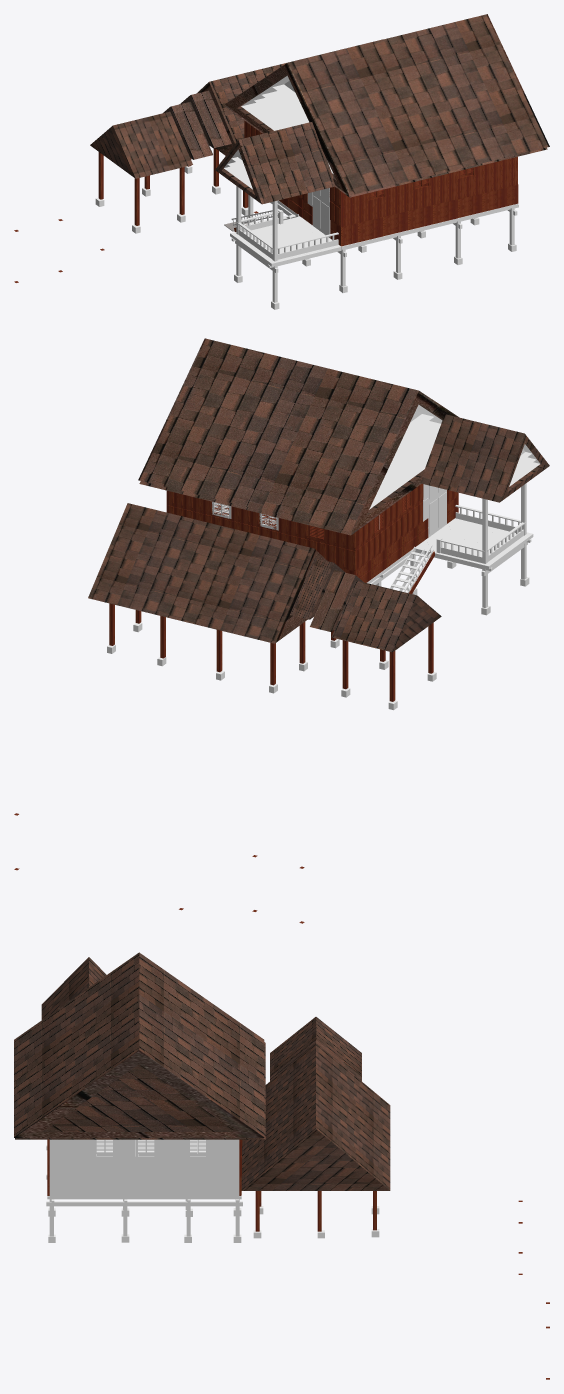
The model's file is rumah_tradisional_soppeng 001.glb.
3 views of the same model, one above another, from view 1: azimuth 30°, elevation 25°; view 2: azimuth 150°, elevation 25°; view 3: azimuth 270°, elevation 25° (orthographic). The views are drawn at different scales.
Visible parts, largest first — view 1: Kubus.518, Kubus.496, Kubus.510, Silinder.021, Kubus.021, Kubus.506, Kubus.509, Kubus.508, Kubus.491, Kubus.200, Kubus.201, Kubus.067 (+1 smaller); view 2: Kubus.518, Kubus.506, Kubus.496, Kubus.510, Silinder.021, Kubus.021, Kubus.509, Kubus.508, Kubus.491, Kubus.201, Kubus.200; view 3: Kubus.518, Kubus.506, Kubus.491, Kubus.510, Kubus.496, Kubus.023.
Part boxes in pixels (x1=…): Kubus.518: x1=225, y1=14, x2=549, y2=195; Kubus.496: x1=215, y1=122, x2=336, y2=204; Kubus.510: x1=90, y1=111, x2=192, y2=178; Silinder.021: x1=236, y1=186, x2=341, y2=302; Kubus.021: x1=230, y1=205, x2=518, y2=272; Kubus.506: x1=196, y1=39, x2=382, y2=155; Kubus.509: x1=163, y1=102, x2=212, y2=159; Kubus.508: x1=180, y1=90, x2=231, y2=148; Kubus.491: x1=225, y1=75, x2=547, y2=197; Kubus.200: x1=262, y1=77, x2=308, y2=124; Kubus.201: x1=241, y1=75, x2=333, y2=173; Kubus.067: x1=339, y1=203, x2=518, y2=249; Kubus.518: x1=138, y1=338, x2=459, y2=532; Kubus.506: x1=88, y1=503, x2=327, y2=643; Kubus.496: x1=420, y1=414, x2=549, y2=502; Kubus.510: x1=331, y1=580, x2=441, y2=652; Silinder.021: x1=436, y1=483, x2=533, y2=607; Kubus.021: x1=415, y1=518, x2=531, y2=576; Kubus.509: x1=310, y1=570, x2=363, y2=631; Kubus.508: x1=290, y1=558, x2=345, y2=619; Kubus.491: x1=139, y1=403, x2=442, y2=535; Kubus.201: x1=369, y1=404, x2=442, y2=509; Kubus.200: x1=390, y1=406, x2=441, y2=465; Kubus.518: x1=14, y1=952, x2=264, y2=1137; Kubus.506: x1=241, y1=1043, x2=390, y2=1190; Kubus.491: x1=15, y1=1042, x2=265, y2=1139; Kubus.510: x1=270, y1=1017, x2=361, y2=1075; Kubus.496: x1=41, y1=957, x2=106, y2=1019; Kubus.023: x1=46, y1=1201, x2=242, y2=1206.
Bounding box in the file's own units: 26.36 × 29.92 × 42.51.
244 materials, 134 textured.
